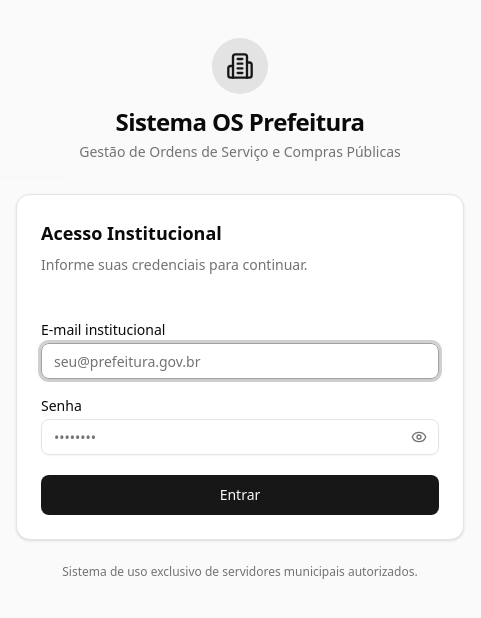
LoginPage — US-001 › Validação Zod — US-001 Cenário 2 › exibe "E-mail obrigatório." ao submeter sem e-mail
This screenshot has width=481, height=618.
Click the button "Entrar": (240, 495) [41,475,439,515]
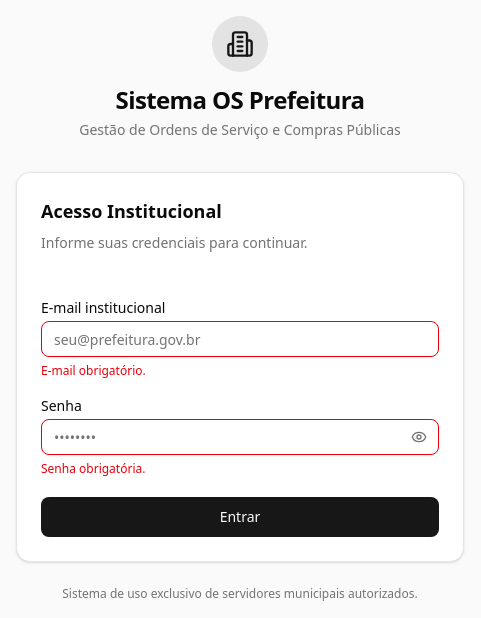
Result: the text "E-mail obrigatório." is shown at [41,362,146,379]
